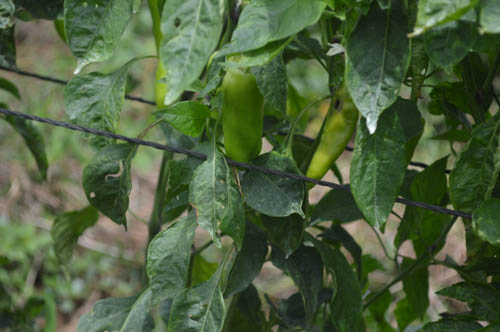ChiliPepper: (302, 92, 358, 191), (217, 72, 269, 166)
